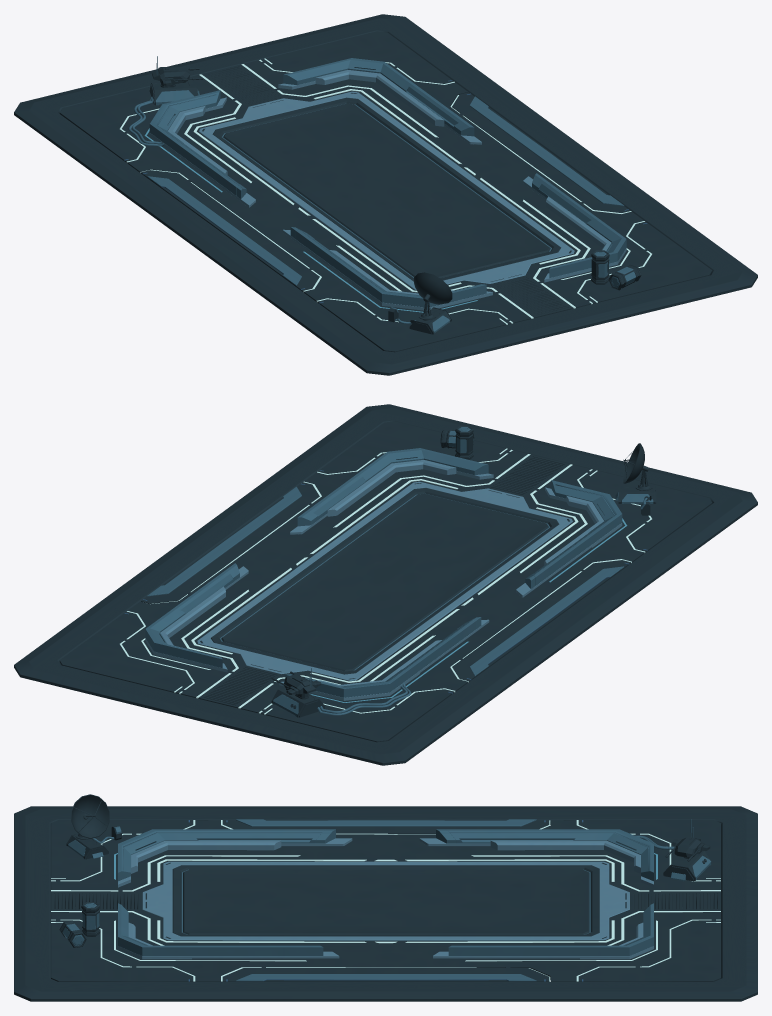
File: Arena Sci-Fi.fbx
The picture shows the model from 3 angles, top to bottom: view 1: azimuth 30°, elevation 25°; view 2: azimuth 150°, elevation 25°; view 3: azimuth 270°, elevation 25°; orthographic projection.
Visible parts, largest first — view 1: Ground, Ground Border, Ground.001, Ground Lights, Bottom Barrier (Right), Top Barrier (Right), Bottom Barrier (Left), Top Barrier (Left), Radar, Turret; view 2: Ground, Ground Border, Ground.001, Ground Lights, Bottom Barrier (Left), Top Barrier (Left), Bottom Barrier (Right), Top Barrier (Right), Radar, Turret; view 3: Ground, Ground Border, Ground.001, Ground Lights, Top Barrier (Left), Top Barrier (Right), Bottom Barrier (Left), Bottom Barrier (Right), Radar, Turret, Barrel (1), Barrel (2).
Part boxes in pixels (box(x1,y1,x2,y2)): Ground: box(59, 31, 712, 352); Ground Border: box(14, 14, 757, 375); Ground.001: box(199, 91, 574, 289); Ground Lights: box(120, 58, 651, 324); Bottom Barrier (Right): box(278, 58, 481, 144); Top Barrier (Right): box(149, 90, 255, 207); Bottom Barrier (Left): box(523, 173, 626, 282); Top Barrier (Left): box(282, 227, 492, 310); Radar: box(388, 272, 452, 334); Turret: box(149, 56, 202, 105); Ground: box(59, 421, 712, 742); Ground Border: box(14, 404, 757, 765); Ground.001: box(197, 481, 572, 680); Ground Lights: box(120, 448, 651, 714); Bottom Barrier (Left): box(290, 448, 493, 534); Top Barrier (Left): box(516, 480, 622, 597); Bottom Barrier (Right): box(145, 563, 248, 672); Top Barrier (Right): box(279, 617, 489, 700); Radar: box(615, 443, 656, 515); Turret: box(271, 668, 324, 717); Ground: box(51, 819, 720, 981); Ground Border: box(14, 806, 757, 1001); Ground.001: box(142, 861, 629, 940); Ground Lights: box(51, 820, 720, 981); Top Barrier (Left): box(118, 829, 352, 887); Top Barrier (Right): box(419, 829, 653, 887); Bottom Barrier (Left): box(118, 903, 339, 959); Bottom Barrier (Right): box(432, 903, 653, 959); Radar: box(66, 794, 121, 859); Turret: box(663, 819, 711, 881); Barrel (1): box(81, 902, 100, 936); Barrel (2): box(59, 920, 86, 947).
Size of the model in its own units: 2721 by 387 by 4445.
